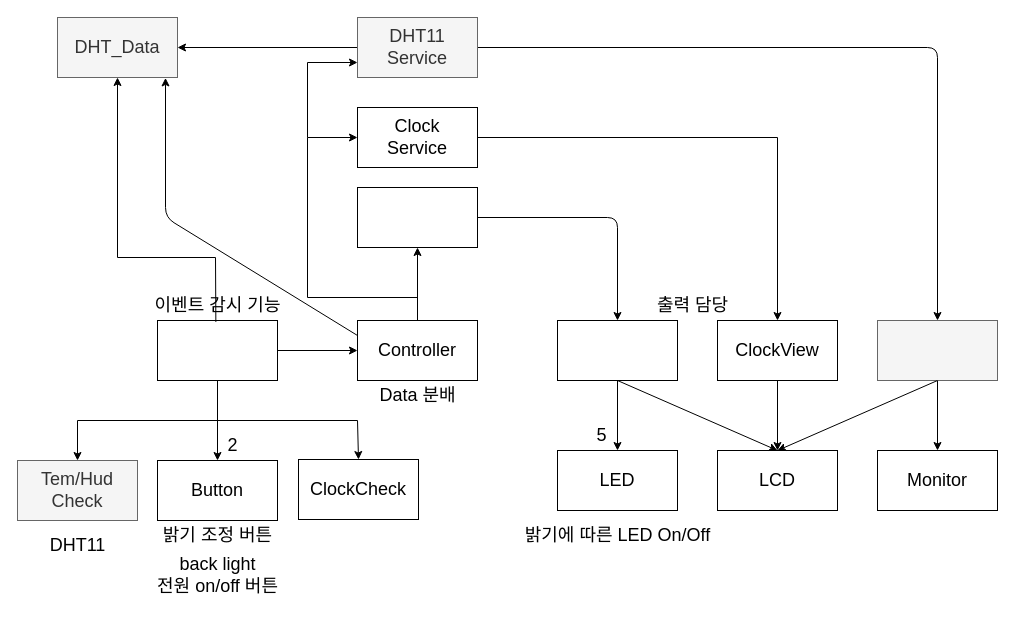
The diagram is 1015 pixels wide and 618 high, and some of its shapes have lost their labels. Each missing label, with the centre of its shape:
"DHT11View" goes at (x=937, y=350).
"LightView" goes at (x=617, y=350).
"Listener" goes at (x=217, y=350).
"StandLight Service" goes at (x=417, y=217).
"상태머신" goes at (x=417, y=92).
